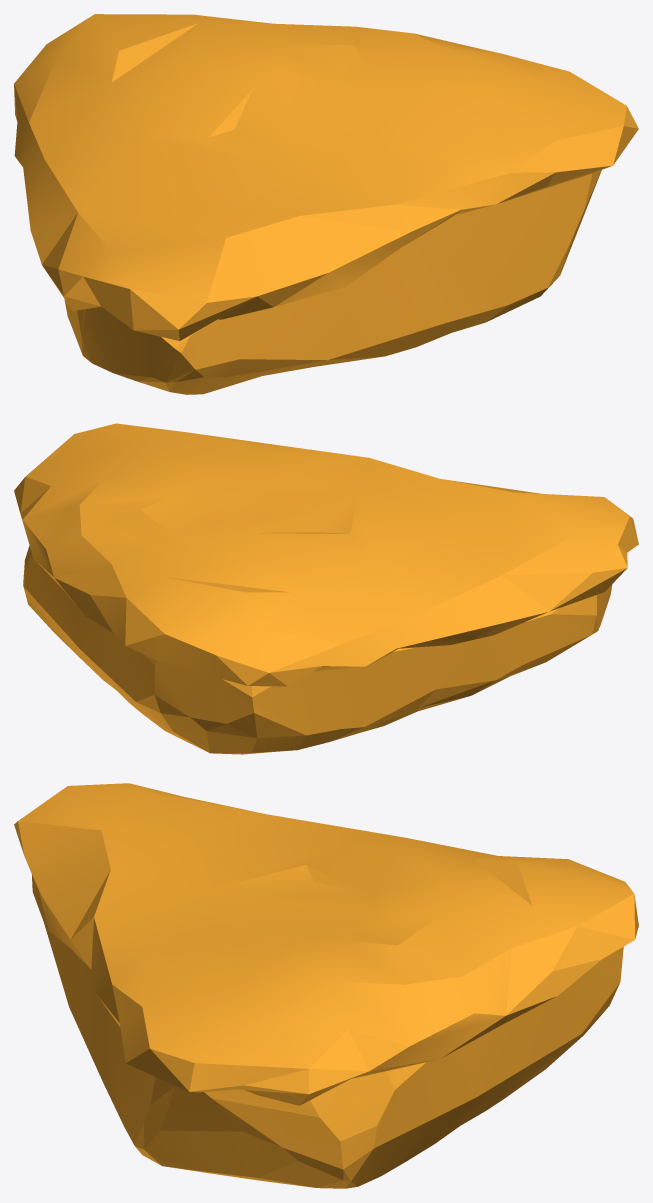
The model's file is SM_Menhir_Flat_A_Snow.fbx.
3 renders of one model, top to bottom at view 1: azimuth 30°, elevation 25°; view 2: azimuth 150°, elevation 25°; view 3: azimuth 270°, elevation 25°, orthographic. The views are drawn at different scales.
Parts seen in each view (by area): view 1: menhir-flat-a-snow; view 2: menhir-flat-a-snow; view 3: menhir-flat-a-snow.
Part boxes in pixels (x1,y1,x2,y2): menhir-flat-a-snow: [14, 14, 638, 394]; menhir-flat-a-snow: [14, 423, 638, 754]; menhir-flat-a-snow: [14, 783, 638, 1188].
Size of the model in its own units: 4.59 by 1.41 by 4.04.
